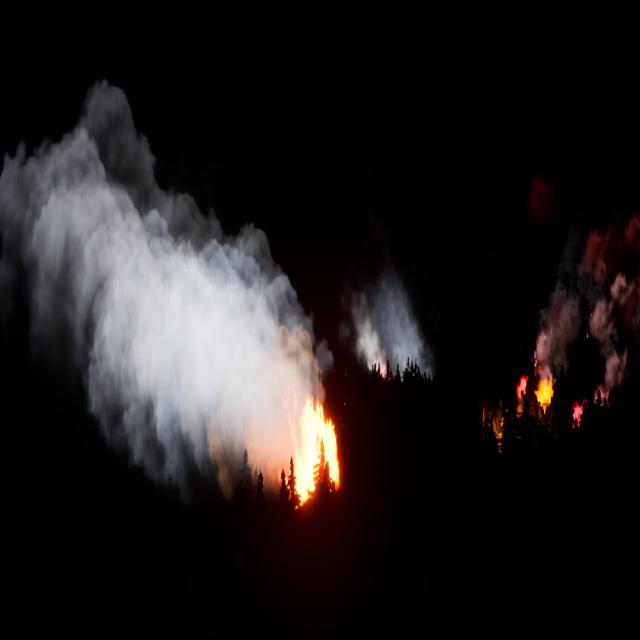fire: (287, 390, 342, 503), (489, 366, 552, 438)
smoke: (0, 70, 333, 495), (524, 210, 640, 378), (348, 272, 434, 390)
